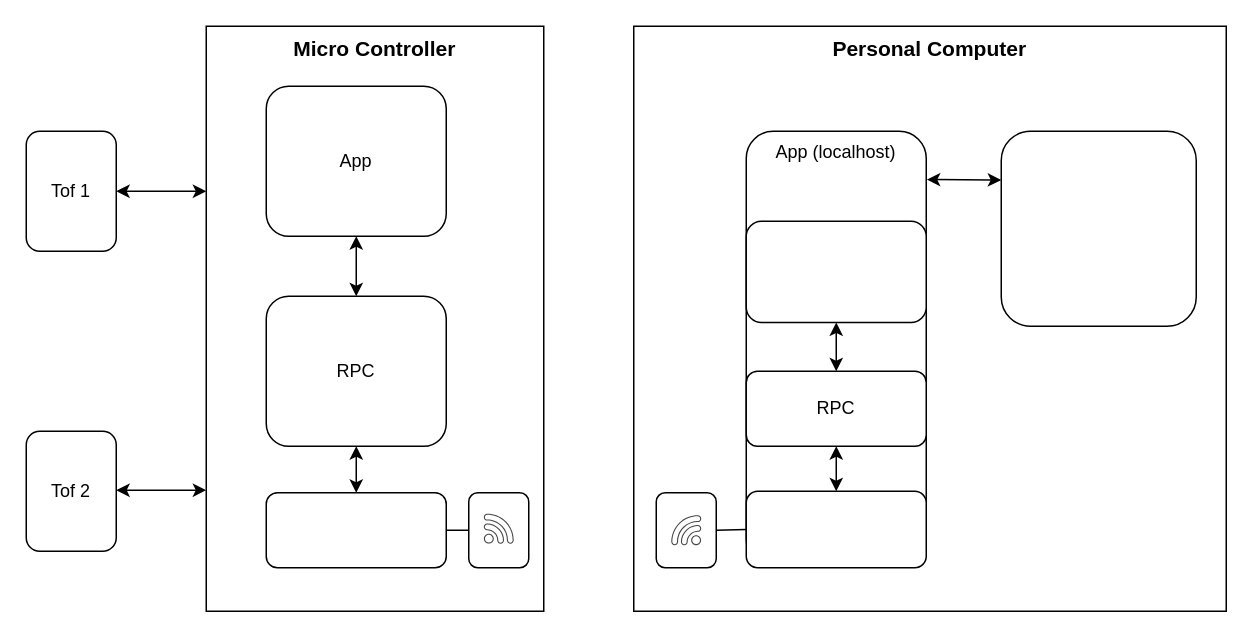
This 1253x638 diagram has some shape labels left out. Each missing label, with the centre of its shape:
"UART" belongs at point (355, 529).
"virtual com port" belongs at point (835, 529).
"Web browser" belongs at point (1098, 228).
"Web framework (Flask)" belongs at point (835, 271).
